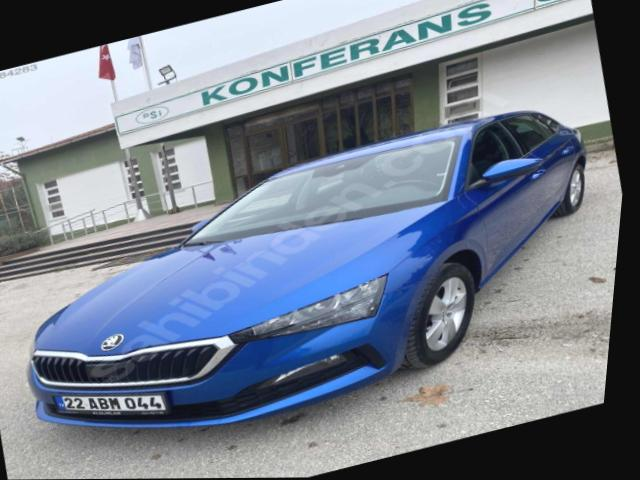plaka: (57, 394, 168, 414)
